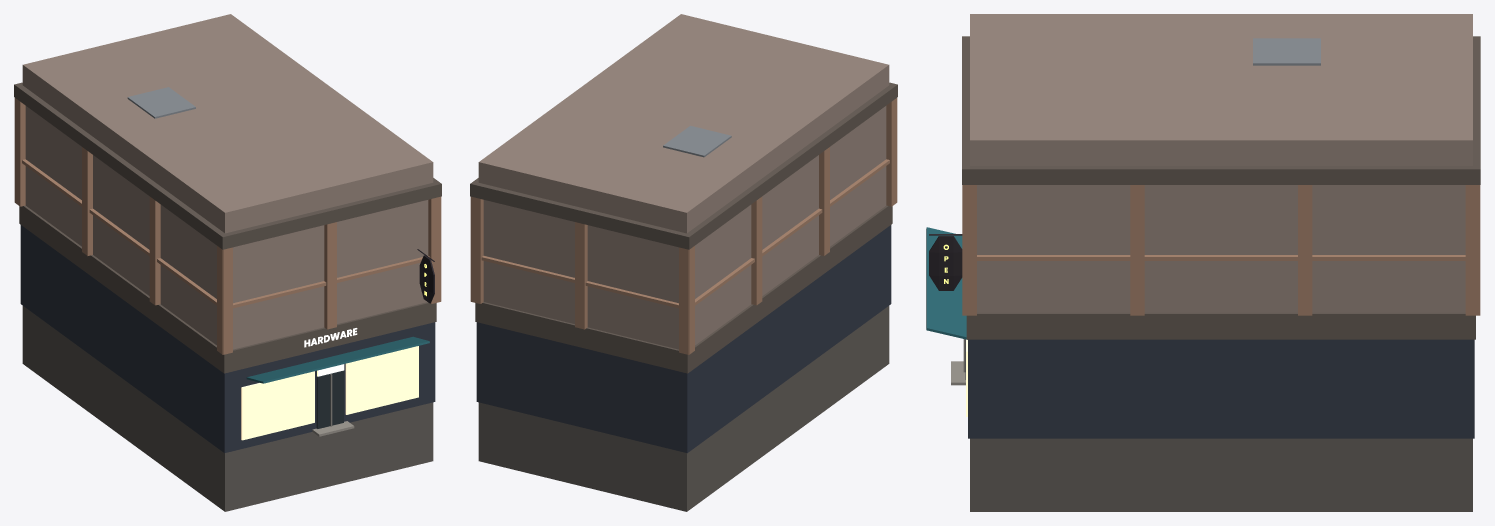
The model's file is building_0.glb.
3 views of the same model, side by side, from view 1: azimuth 30°, elevation 25°; view 2: azimuth 150°, elevation 25°; view 3: azimuth 270°, elevation 25° (orthographic). The views are drawn at different scales.
Parts seen in each view (by area): view 1: building; view 2: building; view 3: building.
Boxes of the visible parts, x1=… form: building: x1=14, y1=14, x2=441, y2=511; building: x1=470, y1=14, x2=897, y2=511; building: x1=926, y1=14, x2=1480, y2=511.
Bounding box in the file's own units: 10 × 13.13 × 17.64.
